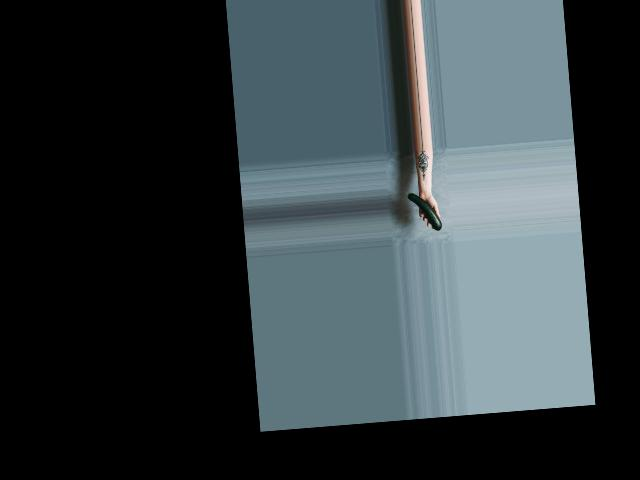cucumber: (407, 191, 441, 233)
